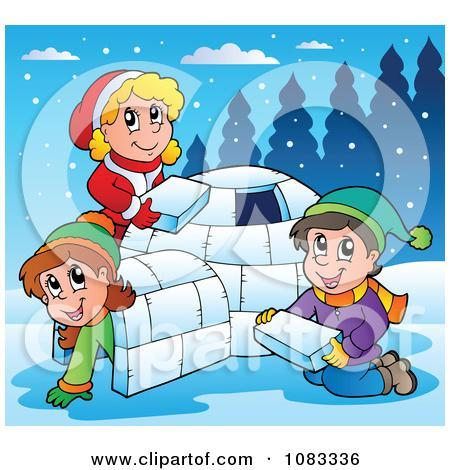person: (288, 189, 417, 397), (15, 222, 140, 401), (68, 67, 180, 236)
